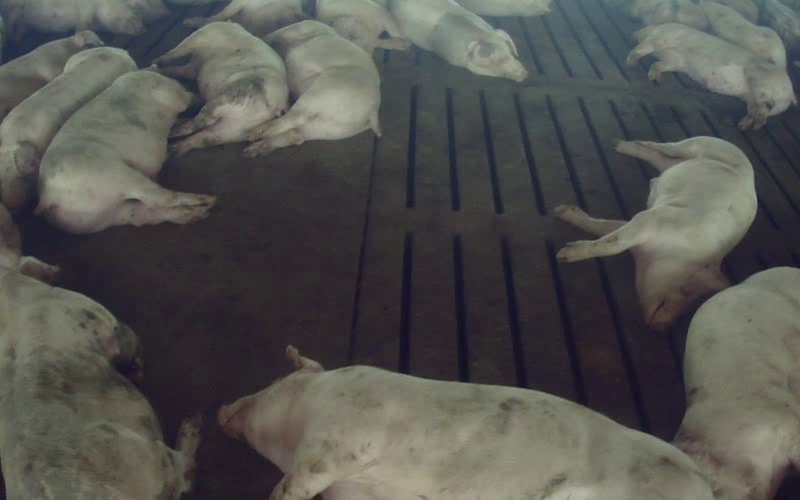pig: (218, 347, 711, 499), (554, 136, 756, 329), (674, 267, 799, 499), (36, 71, 214, 233), (0, 47, 136, 209), (243, 21, 379, 156), (154, 22, 288, 154), (627, 23, 795, 128), (387, 0, 526, 80), (0, 30, 103, 121), (315, 0, 409, 55)
